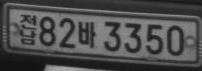0: (165, 24, 185, 56)
2: (58, 16, 76, 49)
3: (103, 20, 122, 52), (123, 21, 142, 53)
5: (145, 23, 164, 55)
8: (37, 14, 56, 47)
바: (77, 21, 97, 49)
전남_V: (18, 13, 37, 45)
